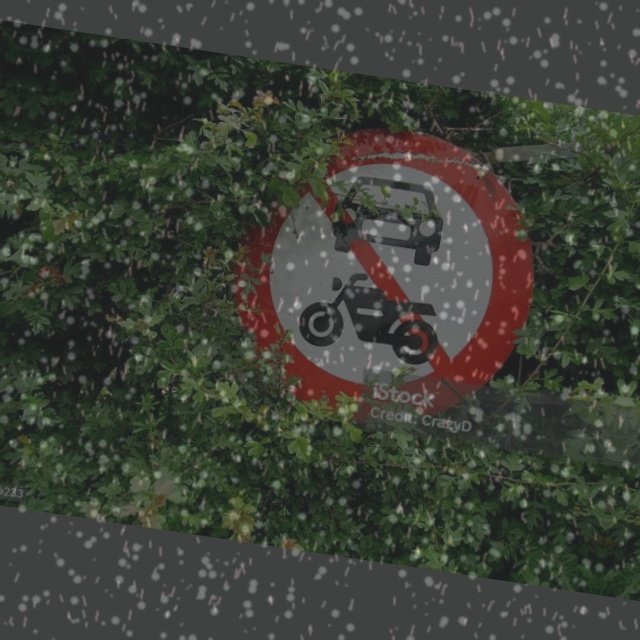All_Motor_Vehicles_Prohibited: (216, 109, 553, 448)
